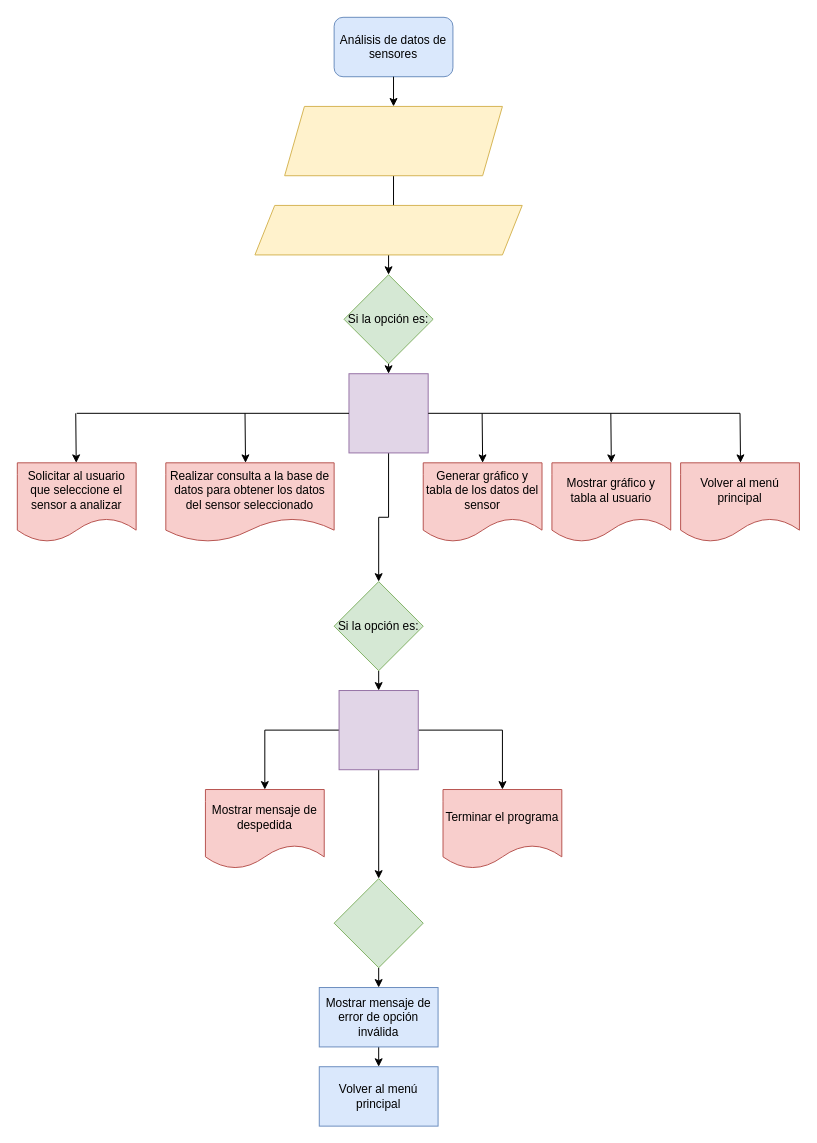
This 817x1143 diagram has some shape labels left out. Here are the shapes that lost their labels. From the top down, the centre of each, then its label:
At [393,140]: "Mostrar mensaje de bienvenida y opciones del menú".
At [388,229]: "Leer la opción seleccionada por el usuario".
At [388,413]: "Seleccionar sensor".
At [378,730]: "Salir".
At [378,923]: "Si la opción no es válida:".
